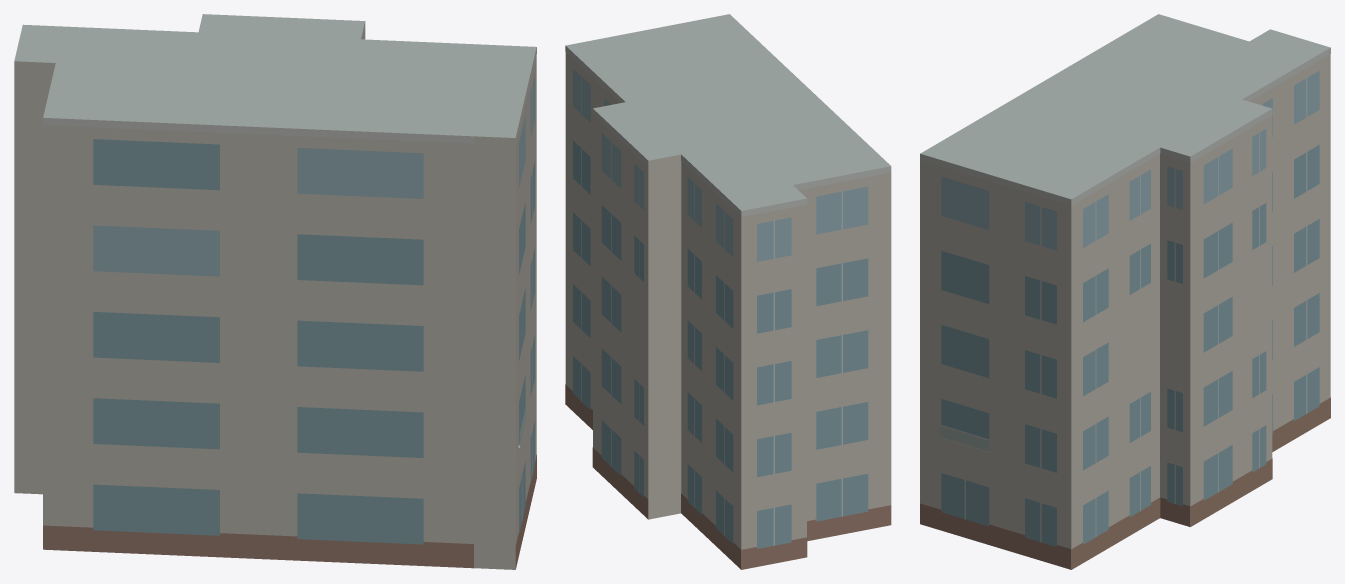
Rendered from survey-upis-32902038.glb.
The picture shows the model from 3 angles, left to right: view 1: azimuth 30°, elevation 25°; view 2: azimuth 150°, elevation 25°; view 3: azimuth 270°, elevation 25°; orthographic projection. The views are drawn at different scales.
Visible parts, largest first — view 1: survey-upis-32902038.tmp; view 2: survey-upis-32902038.tmp; view 3: survey-upis-32902038.tmp.
Boxes of the visible parts, x1=… form: survey-upis-32902038.tmp: x1=14, y1=14, x2=536, y2=569; survey-upis-32902038.tmp: x1=565, y1=14, x2=891, y2=569; survey-upis-32902038.tmp: x1=920, y1=14, x2=1330, y2=569.
Bounding box in the file's own units: 15.36 × 14.3 × 14.37.
